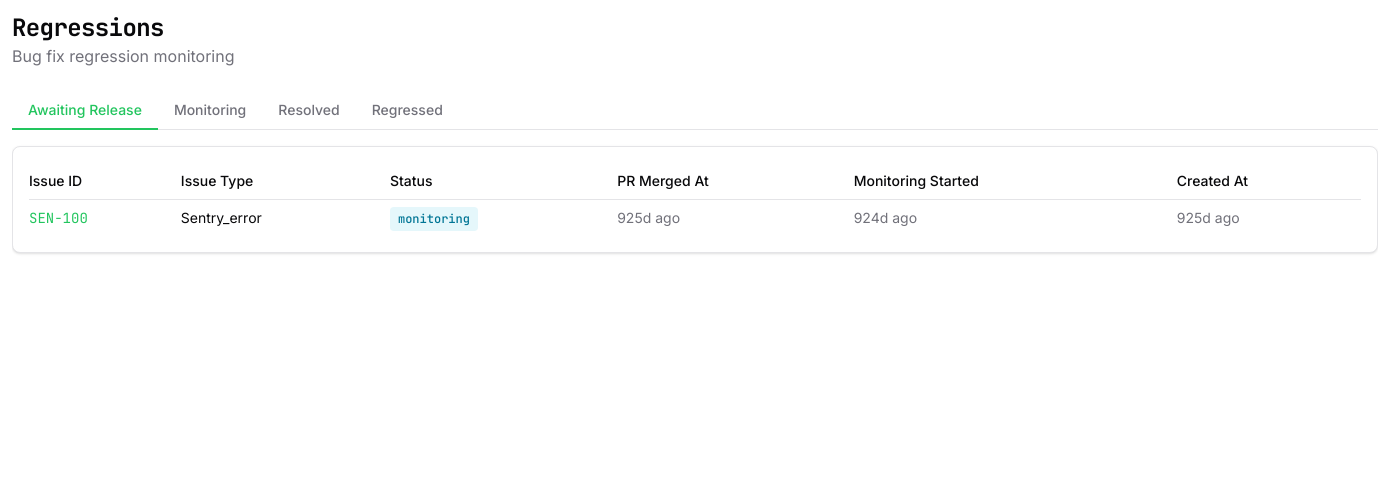
Test: Page Components › RegressionsPage › shows regression checks timeline when clicking issue ID
Click the button "SEN-100" at (58, 218), box [29,208,88,228]
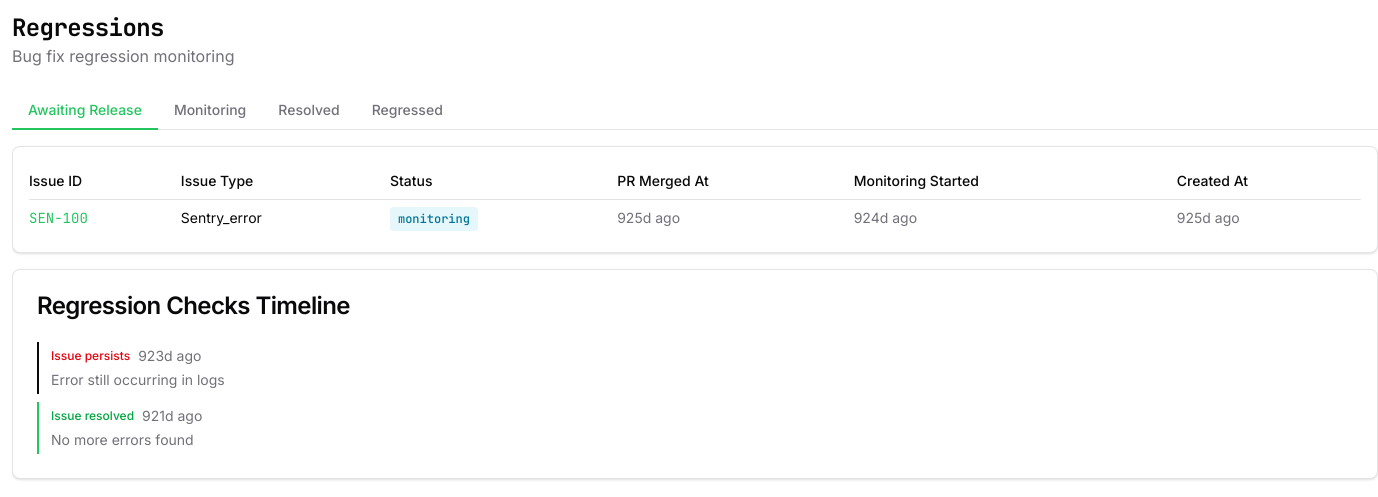
Expected: the heading "Regression Checks Timeline" is shown, [37,291,350,320]
Expected: the text "Issue persists" is shown, [51,348,130,364]
Expected: the text "Issue resolved" is shown, [51,408,134,424]
